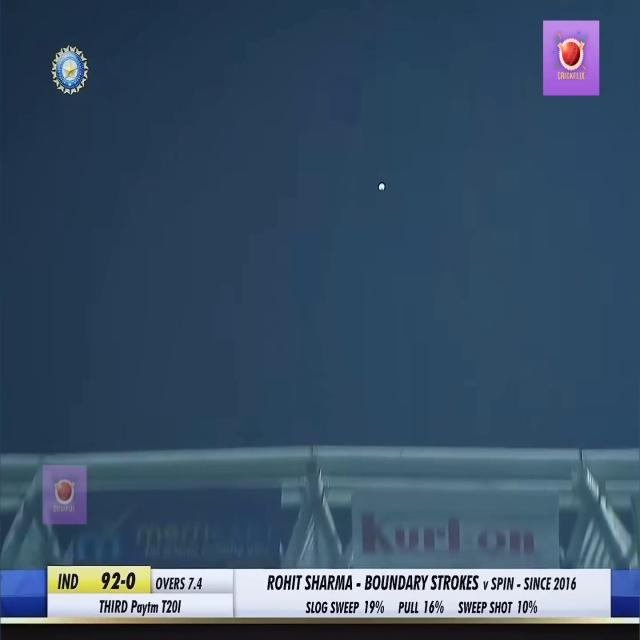fully_visible: (129, 596, 160, 622)
